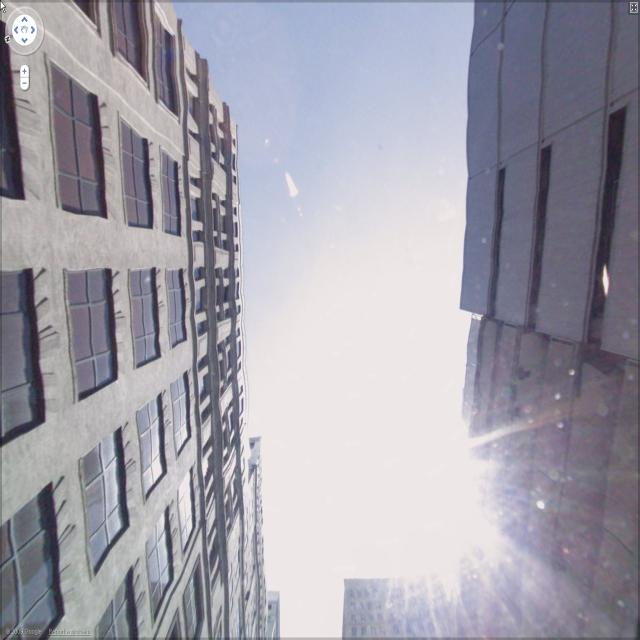b_1: (4, 4, 268, 640), (460, 11, 638, 351), (454, 322, 639, 640), (338, 559, 449, 640)
